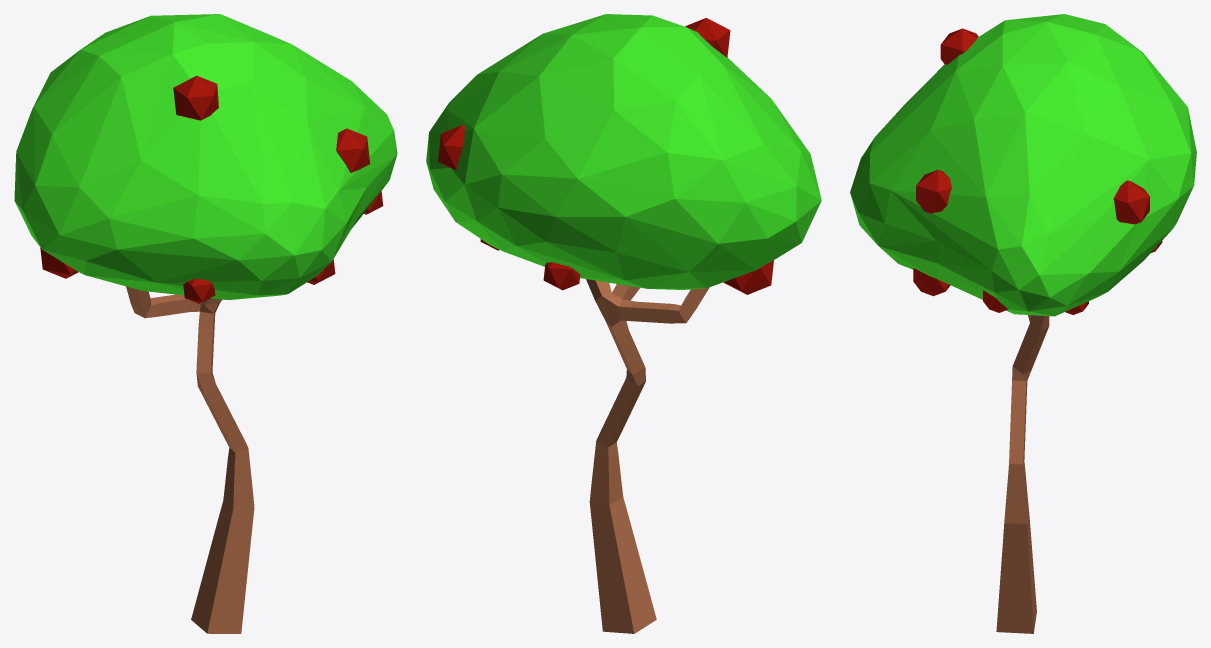
File: AppleTree.fbx
3 renders of one model, left to right at view 1: azimuth 30°, elevation 25°; view 2: azimuth 150°, elevation 25°; view 3: azimuth 270°, elevation 25°, orthographic. The views are drawn at different scales.
Visible parts, largest first — view 1: Icosphere, Plane, Icosphere.009, Icosphere.008, Icosphere.004, Icosphere.006; view 2: Icosphere, Plane, Icosphere.007, Icosphere.009, Icosphere.006, Icosphere.001; view 3: Icosphere, Plane, Icosphere.007, Icosphere.008, Icosphere.009, Icosphere.003.
Boxes of the visible parts, x1,y1,x2,y2 form: Icosphere: [14, 14, 397, 299]; Plane: [126, 286, 254, 633]; Icosphere.009: [173, 75, 218, 120]; Icosphere.008: [336, 128, 370, 172]; Icosphere.004: [183, 278, 215, 303]; Icosphere.006: [40, 247, 78, 278]; Icosphere: [426, 14, 821, 289]; Plane: [586, 279, 709, 633]; Icosphere.007: [438, 125, 465, 169]; Icosphere.009: [685, 18, 730, 57]; Icosphere.006: [723, 260, 773, 294]; Icosphere.001: [543, 262, 580, 290]; Icosphere: [850, 14, 1196, 316]; Plane: [996, 315, 1049, 633]; Icosphere.007: [1113, 180, 1149, 224]; Icosphere.008: [916, 170, 951, 213]; Icosphere.009: [940, 28, 978, 64]; Icosphere.003: [913, 268, 950, 296].
Bounding box in the file's own units: 139 × 222 × 118.
